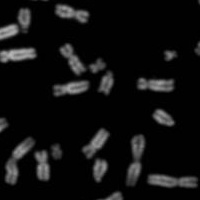chromosome: (5, 136, 33, 184), (127, 134, 145, 185), (60, 44, 86, 76), (82, 129, 110, 158), (147, 173, 199, 188), (56, 4, 88, 24), (52, 80, 89, 97), (136, 77, 173, 92), (0, 48, 37, 62), (35, 150, 49, 180), (0, 24, 19, 45), (153, 109, 175, 127), (99, 69, 114, 94), (92, 159, 107, 182), (83, 192, 123, 200), (19, 8, 31, 33), (90, 57, 105, 72), (162, 49, 178, 62), (0, 116, 8, 139), (52, 143, 62, 158), (195, 37, 200, 57), (196, 0, 200, 8), (21, 0, 49, 1)
